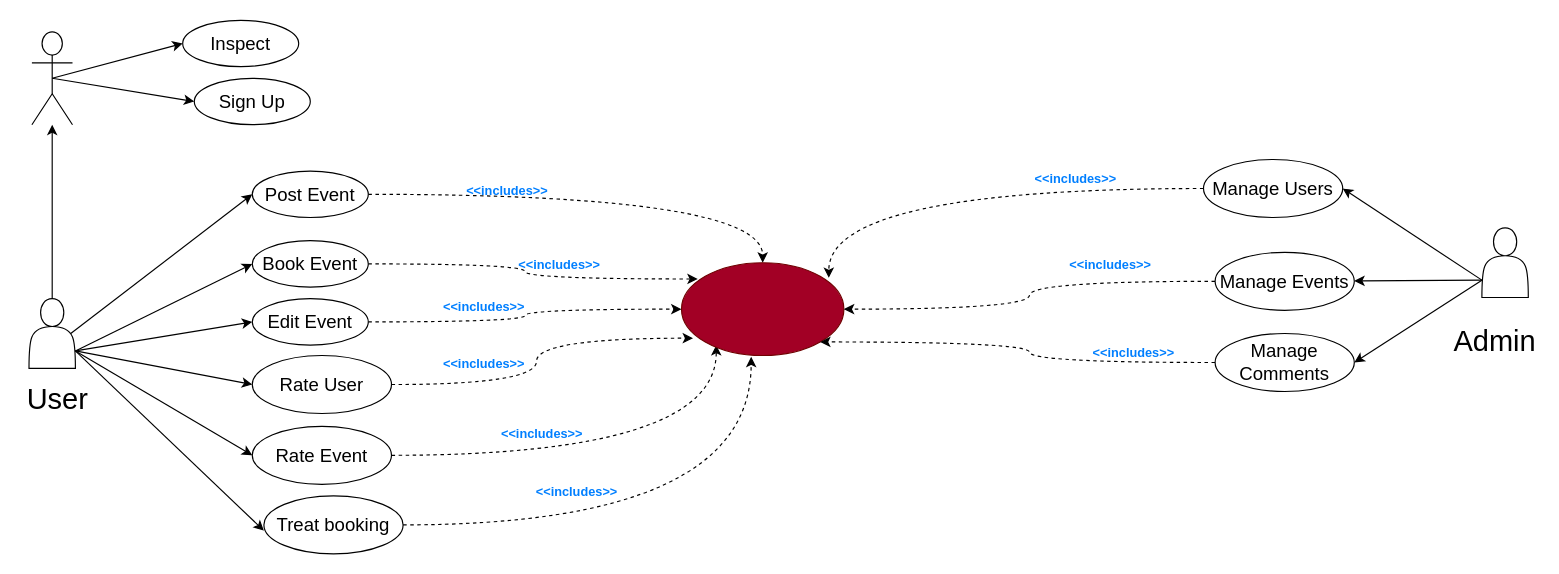
The diagram is 1559 pixels wide and 574 high, and some of its shapes have lost their labels. The shapes that lost their labels are listed below. From the top down, each one's box as (x1, y1, x2, y2) in pixels, then its label:
(31, 31, 72, 125): Visitor
(680, 262, 844, 356): Authentification
